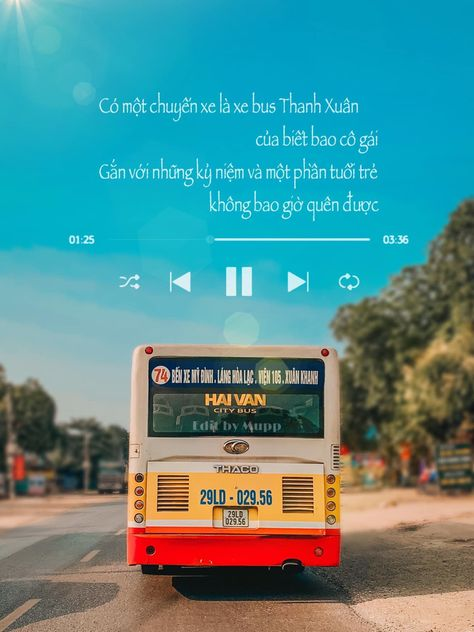number-plate: (223, 505, 250, 527)
